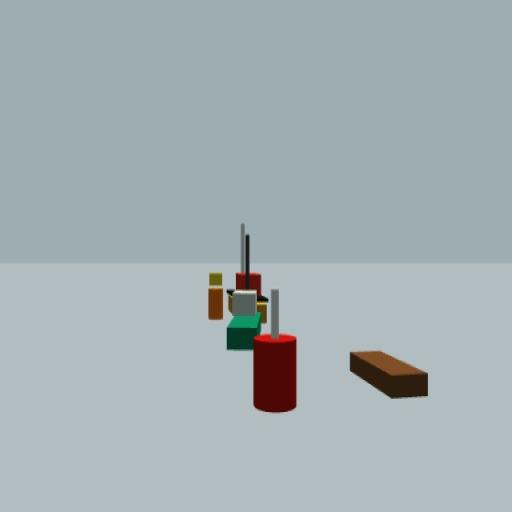buoy: (207, 270, 225, 321)
debris_container: (350, 349, 428, 402)
floating_obstacle: (253, 290, 298, 414)
